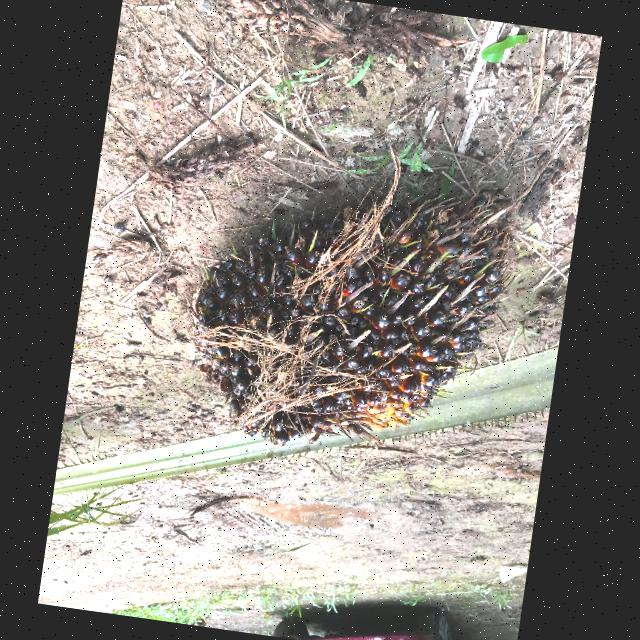Unripe: (190, 201, 498, 446)
